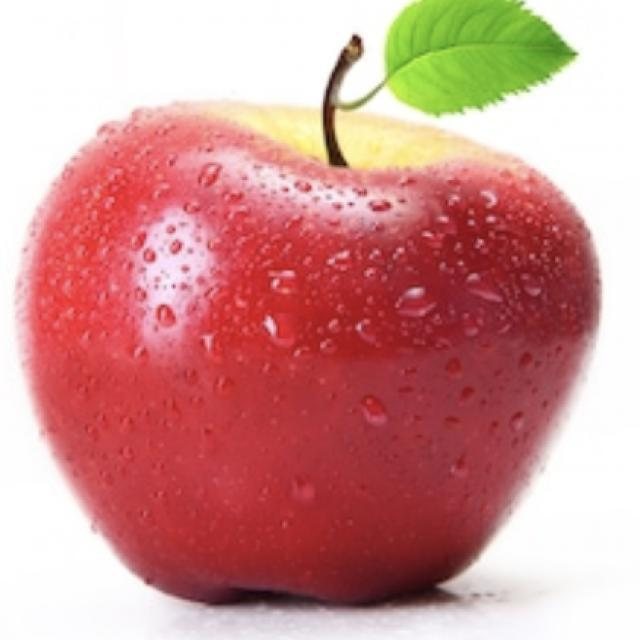Fresh Apple: (60, 100, 585, 610)
